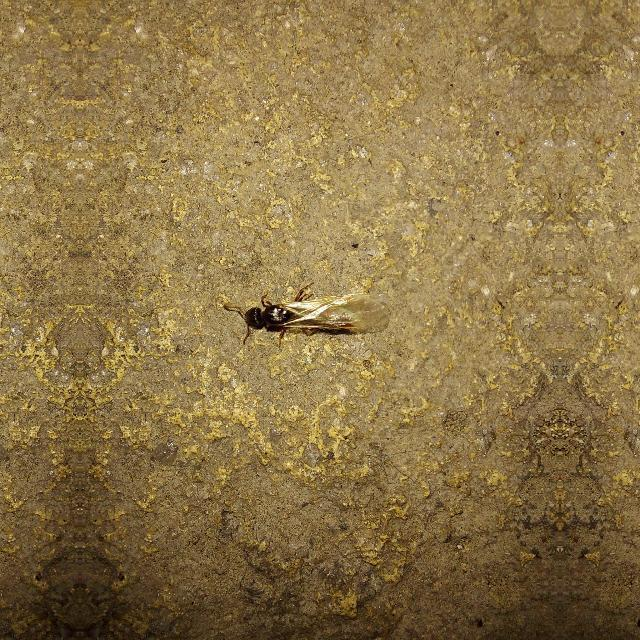Camponotus: (230, 282, 398, 352)
